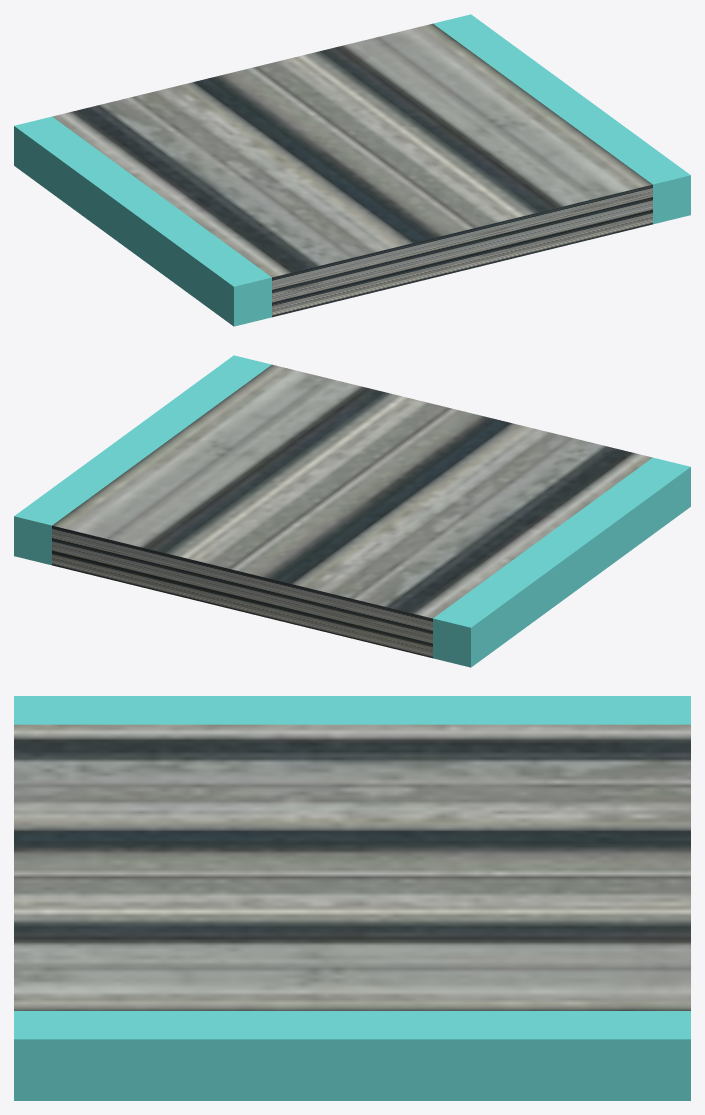
The model's file is wall.glb.
3 views of the same model, one above another, from view 1: azimuth 30°, elevation 25°; view 2: azimuth 150°, elevation 25°; view 3: azimuth 270°, elevation 25° (orthographic). The views are drawn at different scales.
Parts seen in each view (by area): view 1: base, corner-left, corner-right; view 2: base, corner-left, corner-right; view 3: base, corner-right, corner-left.
Part boxes in pixels (x1,y1,x2,y2): base: (52,23,652,317); corner-left: (14,116,271,326); corner-right: (433,14,690,224); base: (52,364,652,658); corner-left: (433,457,690,667); corner-right: (14,355,271,565); base: (14,724,690,1010); corner-right: (14,1011,690,1100); corner-left: (14,696,690,724).
Size of the model in its own units: 2.4 by 0.2 by 2.
2 materials, 1 textured.
